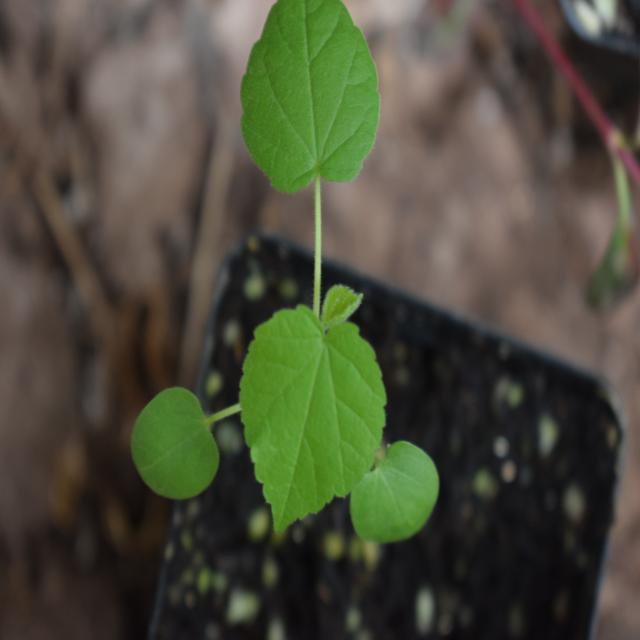abutilon theophrasti: (131, 12, 463, 564)
